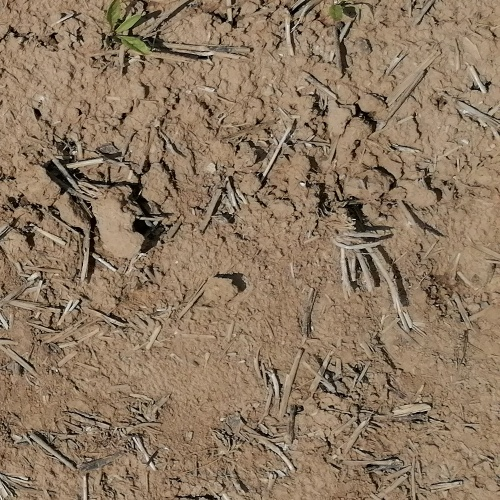beet: (104, 0, 149, 55)
